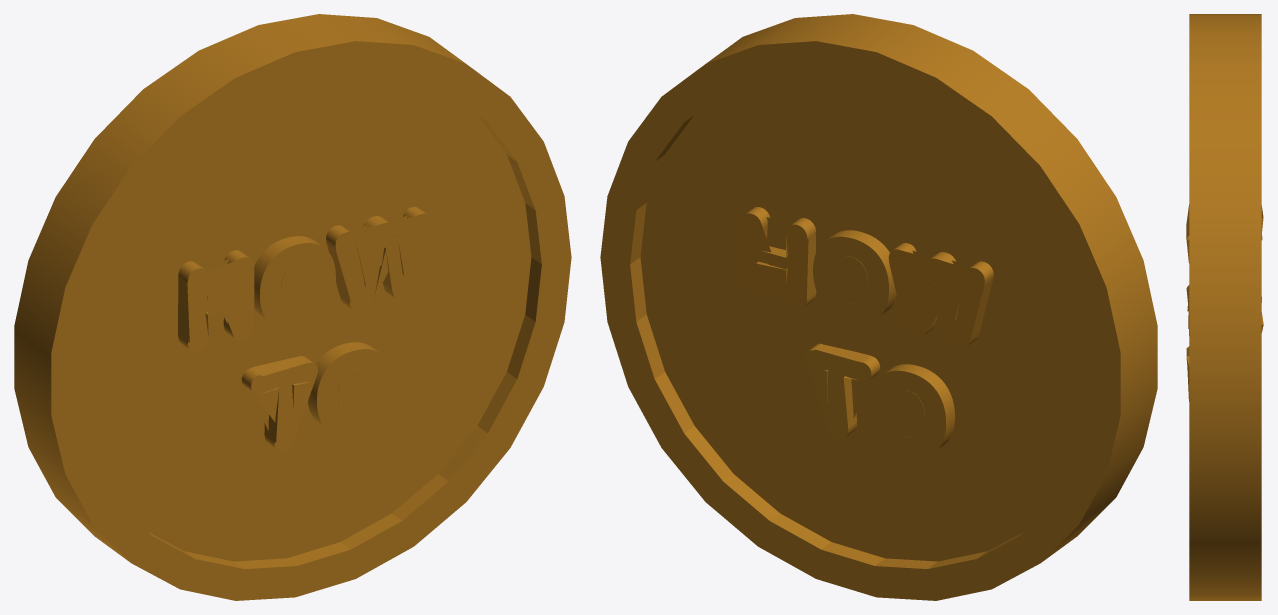
The model's file is coin_howto_RE.FBX.
3 renders of one model, left to right at view 1: azimuth 30°, elevation 25°; view 2: azimuth 150°, elevation 25°; view 3: azimuth 270°, elevation 25°, orthographic. The views are drawn at different scales.
Parts seen in each view (by area): view 1: Cylinder001; view 2: Cylinder001; view 3: Cylinder001.
Part boxes in pixels (left/top/right/bottom): Cylinder001: left=14, top=14, right=571, bottom=600; Cylinder001: left=600, top=14, right=1157, bottom=600; Cylinder001: left=1186, top=14, right=1263, bottom=600.
Size of the model in its own units: 63.1 by 63.21 by 8.33.
